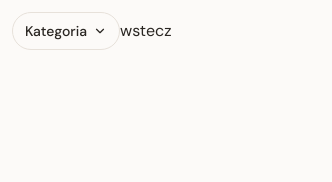
Test case: MultiFilterDropdown — wybór optymistyczny przy zapisie przejściem (AF-5-065) › szybkie kolejne kliki składają się w jeden wybór
Click the button "Kategoria" at [66, 31], box [12, 12, 120, 50]
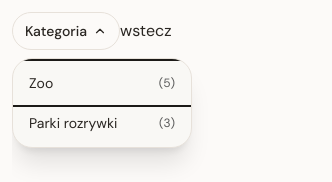
Click the option "Zoo (5)" at [102, 83], box [13, 63, 191, 103]
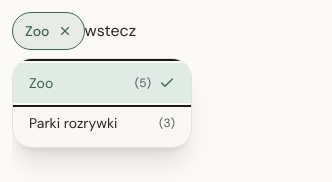
Click the option "Parki rozrywki (3)" at [102, 123], box [13, 103, 191, 143]
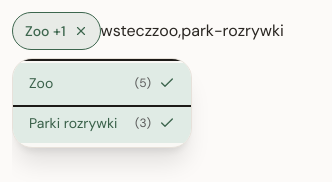
Expected: the button "Zoo +1" is shown, [12, 12, 100, 50]
Expected: the text with test id "adres" reads "zoo,park-rozrywki", [152, 20, 284, 41]
